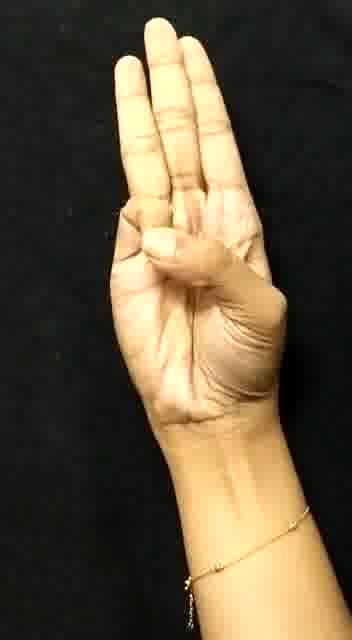trishool: (62, 22, 312, 424)
